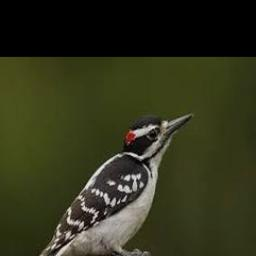Woodpecker: (32, 112, 193, 256)
